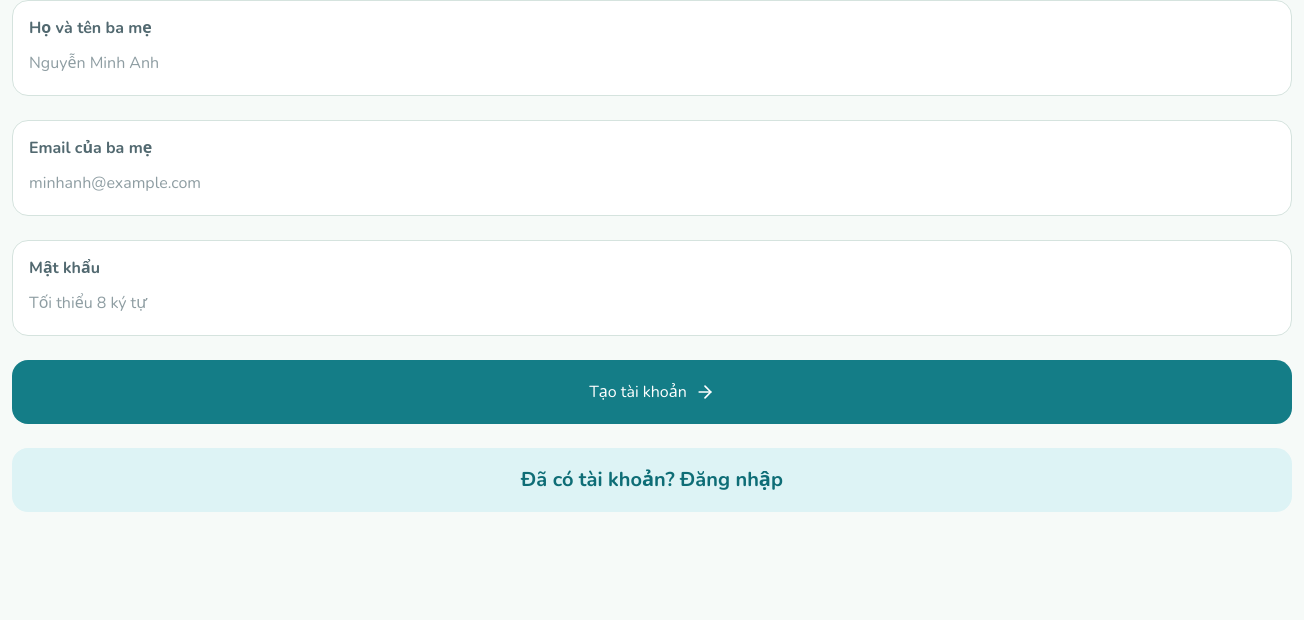
Test case: RegisterForm › shows field-level validation for all three registration fields
The width and height of the screenshot is (1304, 620).
Click the button "Tạo tài khoản": (652, 392) [12, 360, 1292, 424]
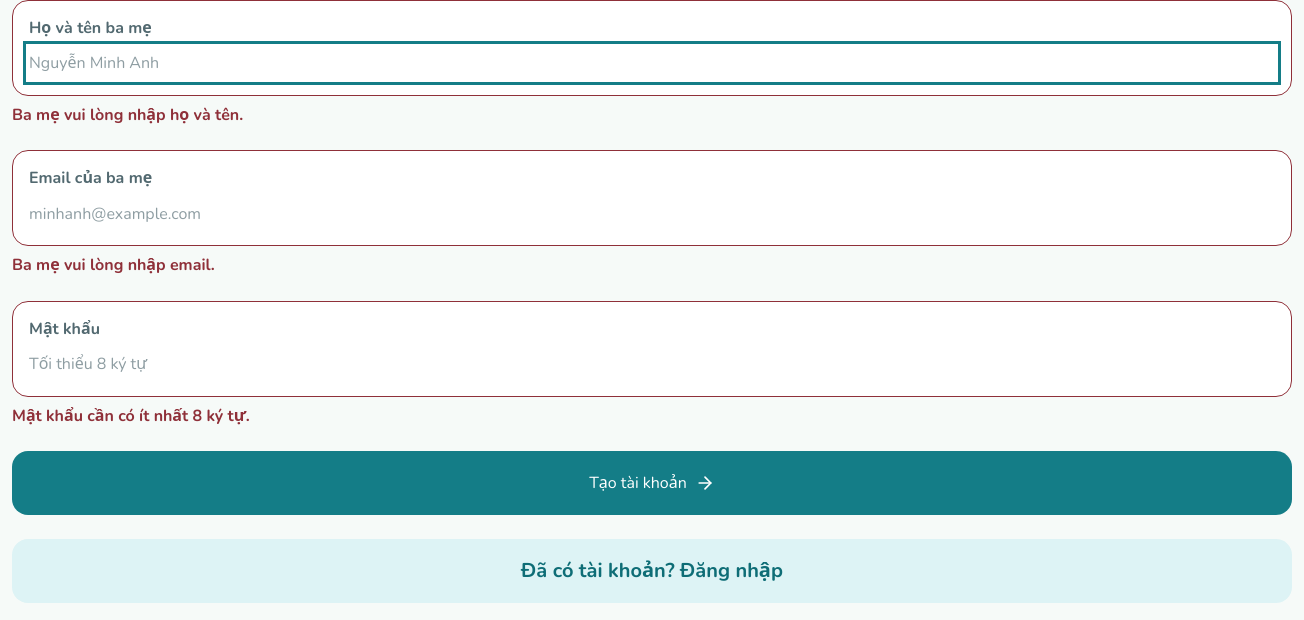
Now the text "Ba mẹ vui lòng nhập họ và tên." is shown, box [12, 104, 243, 126]
Now the text "Ba mẹ vui lòng nhập email." is shown, box [12, 254, 215, 276]
Now the text "Mật khẩu cần có ít nhất 8 ký tự." is shown, box [12, 405, 250, 427]
